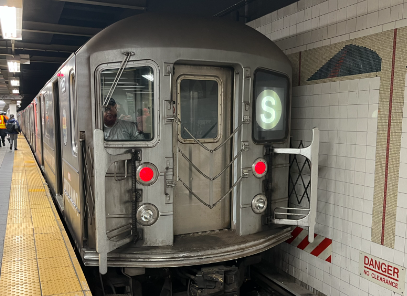train: (71, 16, 298, 243)
